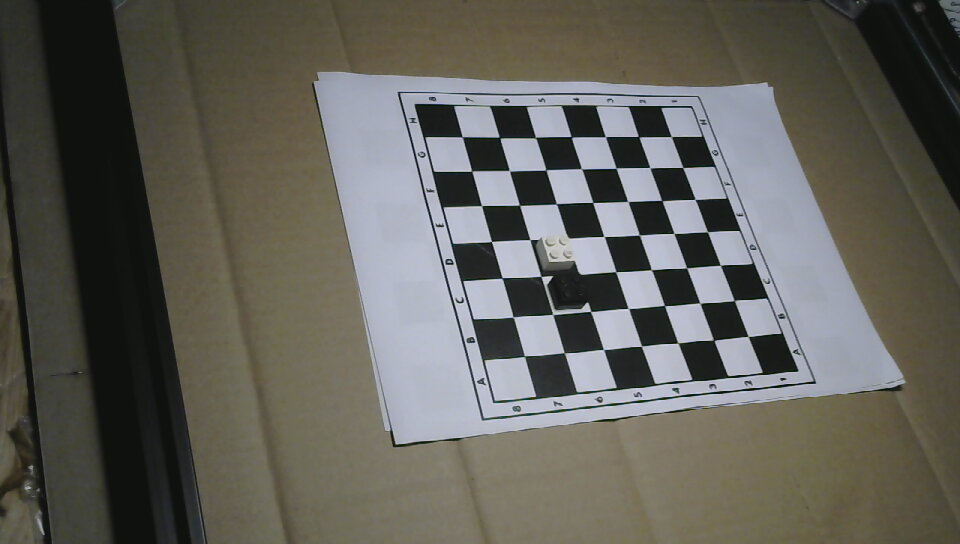wp: (536, 231, 578, 275)
